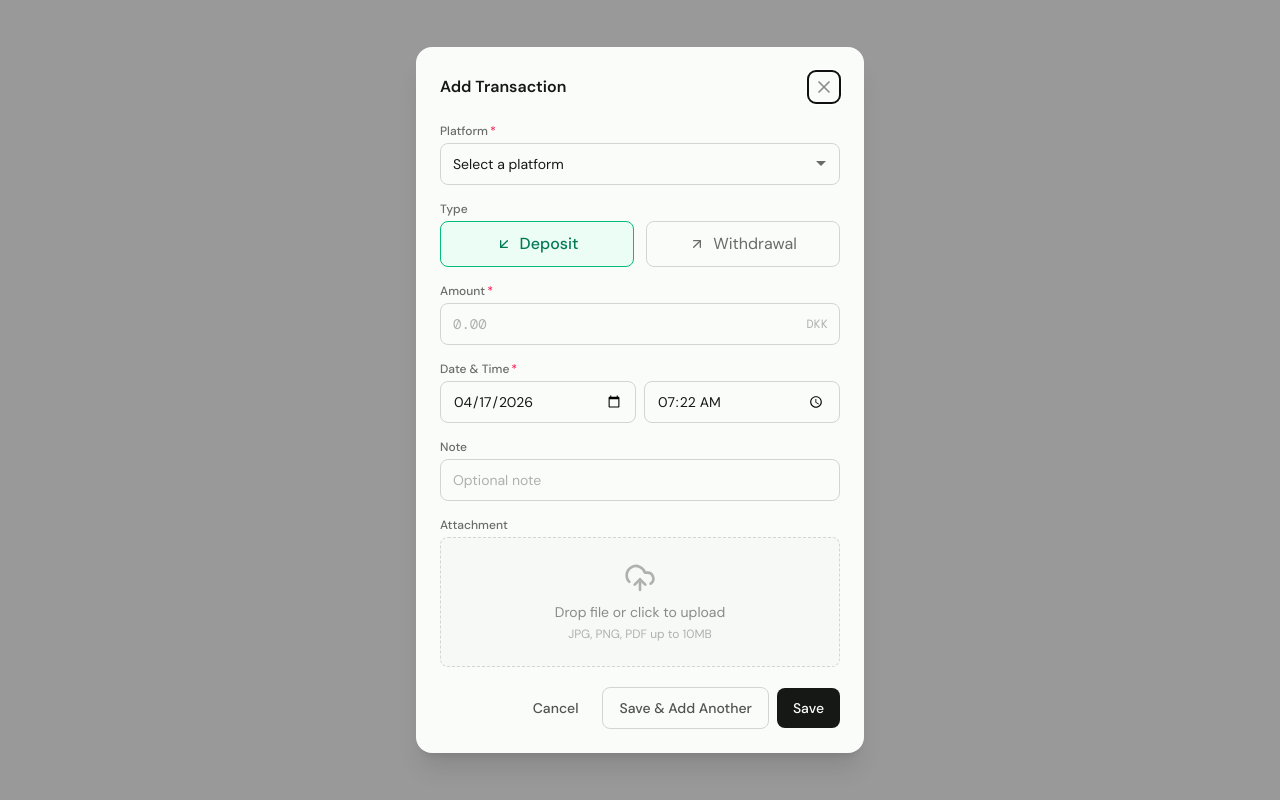
TransactionDialog › Validation › shows error when platform is not selected
Type "100" into the number field with placeholder "0.00" at (640, 324), box [440, 303, 840, 345]
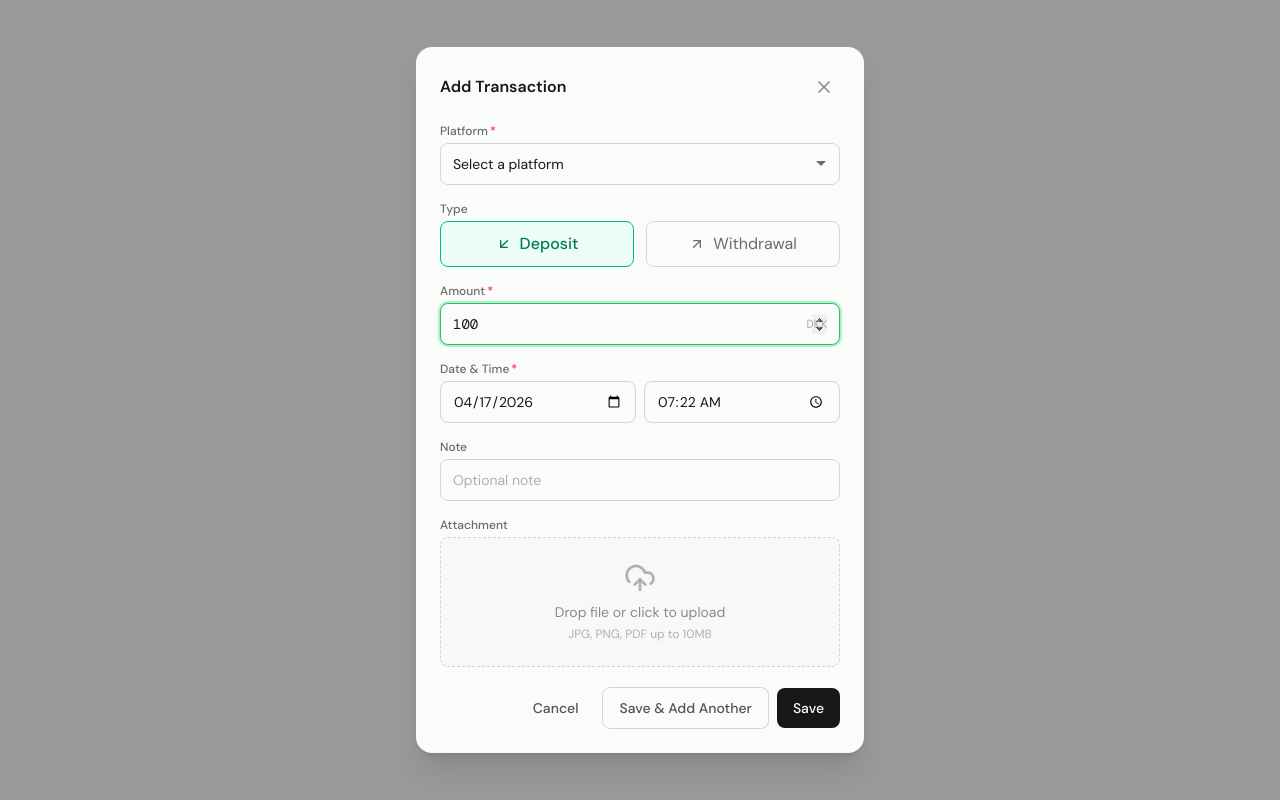
Click the button "Save" at (808, 708), box [777, 688, 840, 728]
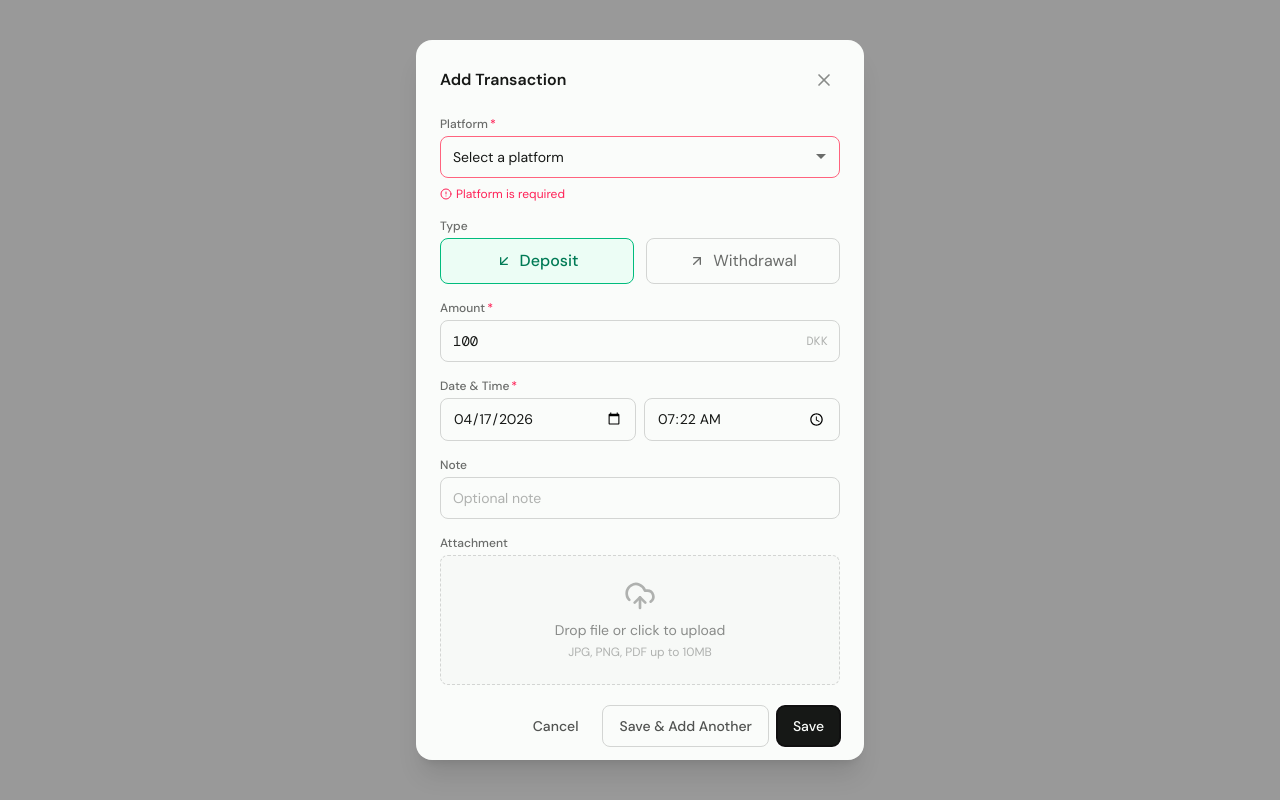
Expected: the text "Platform is required" is shown, [440, 186, 565, 202]
